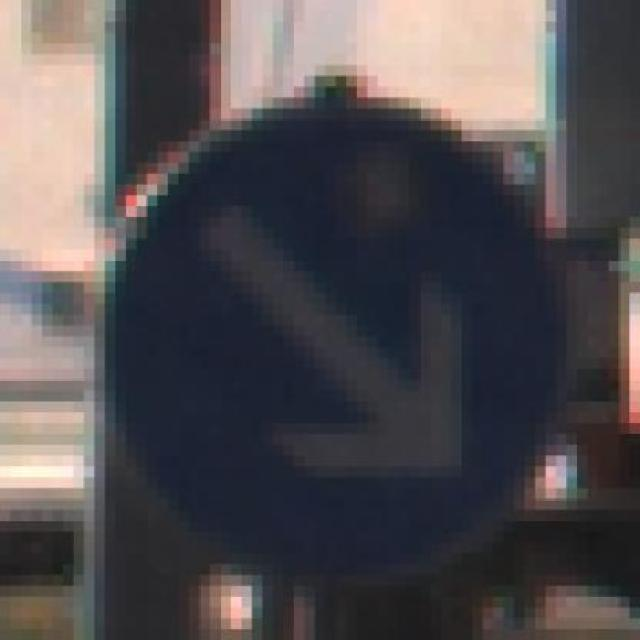Keep-Right: (84, 54, 598, 597)
